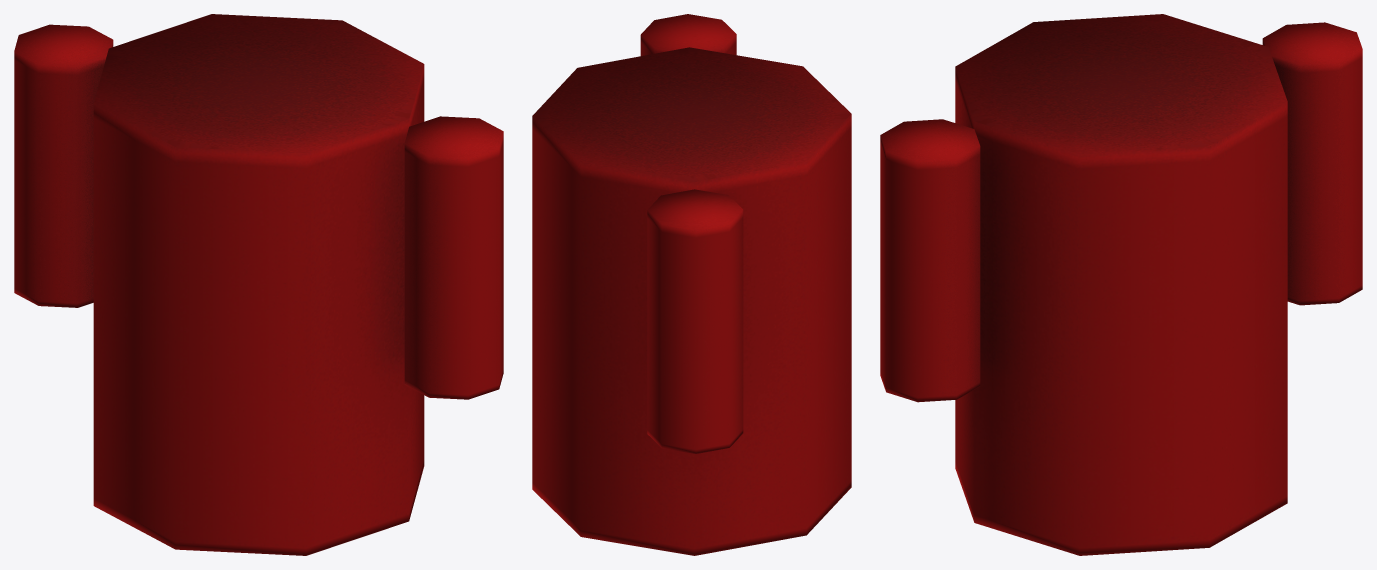
The model's file is Android_red.dae.
3 renders of one model, left to right at view 1: azimuth 30°, elevation 25°; view 2: azimuth 150°, elevation 25°; view 3: azimuth 270°, elevation 25°, orthographic. The views are drawn at different scales.
Parts seen in each view (by area): view 1: Body, LeftHand, RightHand; view 2: Body, RightHand, LeftHand; view 3: Body, LeftHand, RightHand.
Boxes of the visible parts, x1=… form: Body: x1=93, y1=14, x2=424, y2=555; LeftHand: x1=404, y1=116, x2=503, y2=399; RightHand: x1=14, y1=24, x2=113, y2=307; Body: x1=532, y1=47, x2=851, y2=555; RightHand: x1=647, y1=189, x2=743, y2=453; LeftHand: x1=640, y1=14, x2=736, y2=55; Body: x1=955, y1=14, x2=1287, y2=555; LeftHand: x1=880, y1=119, x2=980, y2=402; RightHand: x1=1262, y1=22, x2=1362, y2=305.
Size of the model in its own units: 1.94 by 2.81 by 2.58.
1 material, 1 textured.
